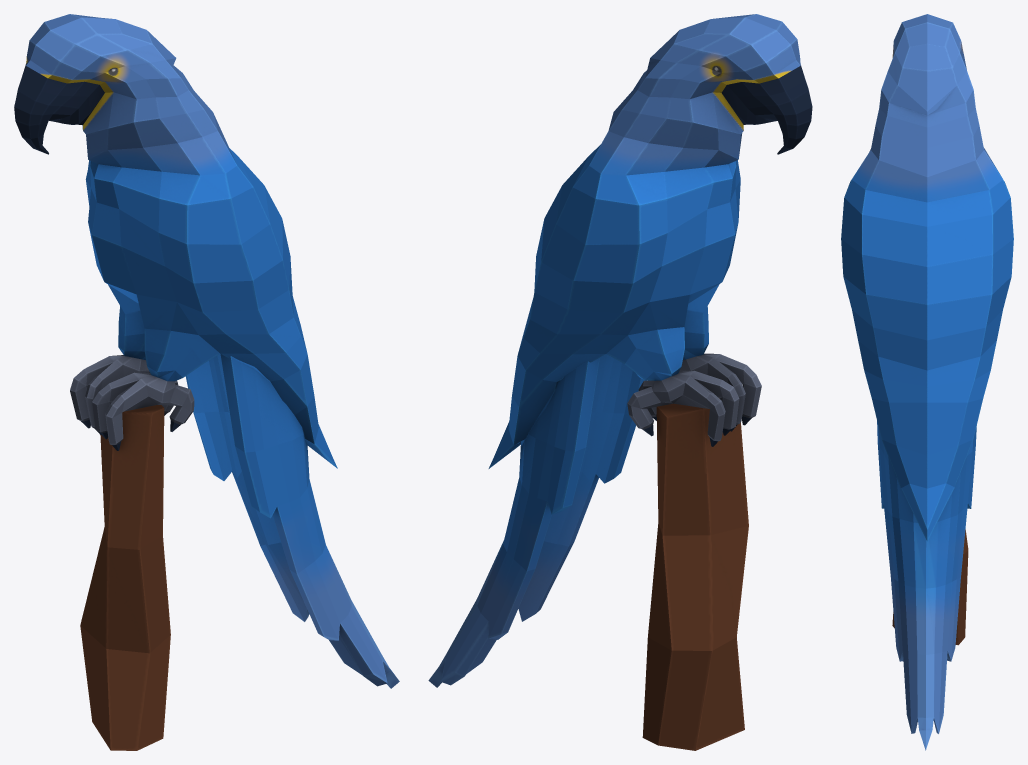
Rendered from HyacinthMacaw.obj.
3 renders of one model, left to right at view 1: azimuth 30°, elevation 25°; view 2: azimuth 150°, elevation 25°; view 3: azimuth 270°, elevation 25°, orthographic. The views are drawn at different scales.
Parts seen in each view (by area): view 1: HyancinthMacaw_mesh; view 2: HyancinthMacaw_mesh; view 3: HyancinthMacaw_mesh.
Part boxes in pixels (x1,y1,x2,y2): HyancinthMacaw_mesh: (14, 14, 399, 750); HyancinthMacaw_mesh: (428, 14, 812, 750); HyancinthMacaw_mesh: (841, 14, 1013, 750).
Size of the model in its own units: 5.79 by 10.74 by 2.77.
Materials: 1 (1 with a texture image).
